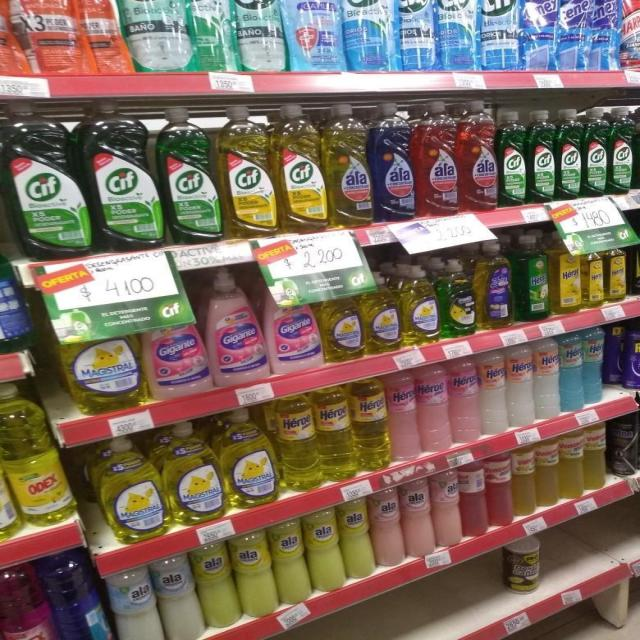ala_conc_amarillo: (327, 103, 372, 227)
ala_conc_azul: (374, 102, 415, 222)
ala_conc_rojo: (416, 101, 458, 217), (460, 101, 497, 212)
ala_crem_amarillo: (196, 540, 235, 630), (235, 530, 273, 618), (272, 518, 307, 606), (307, 508, 341, 594), (341, 496, 372, 580)
ala_crem_blanco: (109, 565, 159, 640), (158, 553, 199, 640)
ala_crem_rosado: (372, 488, 403, 568), (403, 478, 432, 558), (433, 468, 461, 548)
cif_conc_bot_amarilla: (220, 106, 275, 237), (277, 104, 325, 232)
cif_conc_botella_verde: (5, 104, 86, 258), (88, 105, 160, 251), (162, 106, 219, 244), (498, 109, 526, 208), (528, 108, 556, 204), (583, 108, 608, 198), (557, 108, 581, 200), (609, 106, 634, 194)
heroe: (275, 393, 318, 491), (352, 376, 388, 474), (317, 384, 353, 482), (418, 362, 449, 453), (389, 368, 419, 462), (450, 356, 480, 444), (506, 343, 534, 426), (480, 348, 506, 436), (534, 338, 559, 420), (560, 332, 584, 412), (583, 327, 605, 408)
magistral_con_amarillo: (96, 435, 165, 544), (61, 330, 142, 412), (166, 421, 222, 525), (224, 407, 276, 509), (401, 264, 439, 346), (364, 275, 400, 354), (322, 292, 362, 362)
vencedor: (560, 432, 584, 500)
